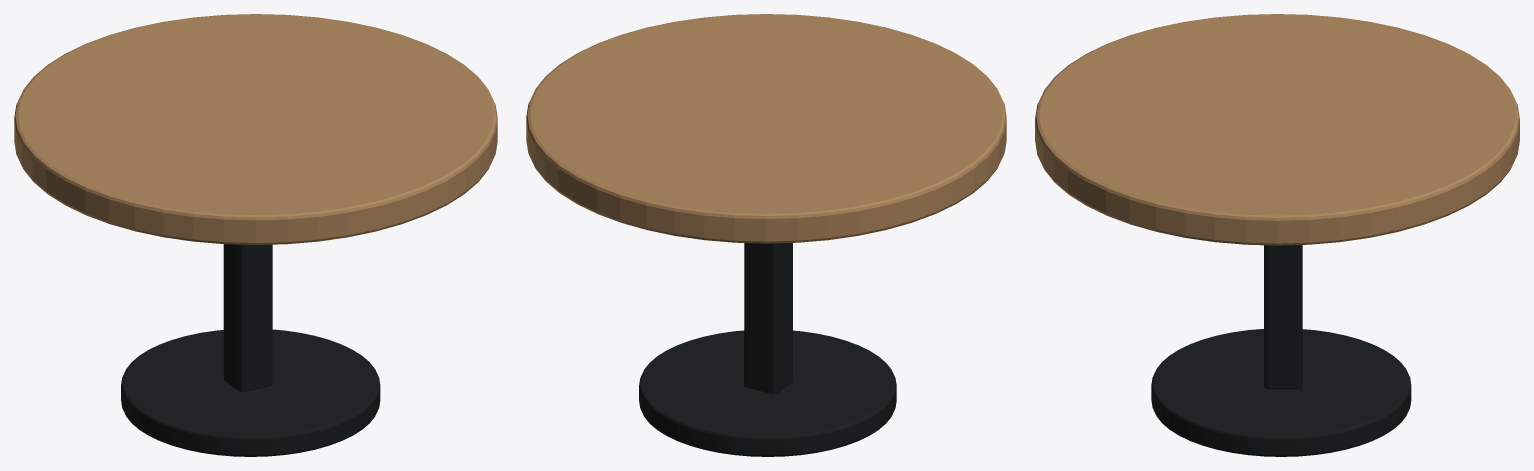
Rendered from best.glb.
3 renders of one model, left to right at view 1: azimuth 30°, elevation 25°; view 2: azimuth 150°, elevation 25°; view 3: azimuth 270°, elevation 25°, orthographic.
Parts seen in each view (by area): view 1: starbucksTable_2, starbucksTable_0, starbucksTable_1; view 2: starbucksTable_2, starbucksTable_0, starbucksTable_1; view 3: starbucksTable_2, starbucksTable_0, starbucksTable_1.
Part boxes in pixels (x1=…): starbucksTable_2: x1=14, y1=14, x2=497, y2=244; starbucksTable_0: x1=121, y1=329, x2=380, y2=456; starbucksTable_1: x1=223, y1=244, x2=272, y2=392; starbucksTable_2: x1=526, y1=14, x2=1006, y2=243; starbucksTable_0: x1=639, y1=330, x2=896, y2=456; starbucksTable_1: x1=744, y1=243, x2=792, y2=393; starbucksTable_2: x1=1035, y1=14, x2=1519, y2=245; starbucksTable_0: x1=1151, y1=329, x2=1411, y2=456; starbucksTable_1: x1=1264, y1=245, x2=1302, y2=389.
Size of the model in its own units: 1.25 by 0.825 by 1.25.
